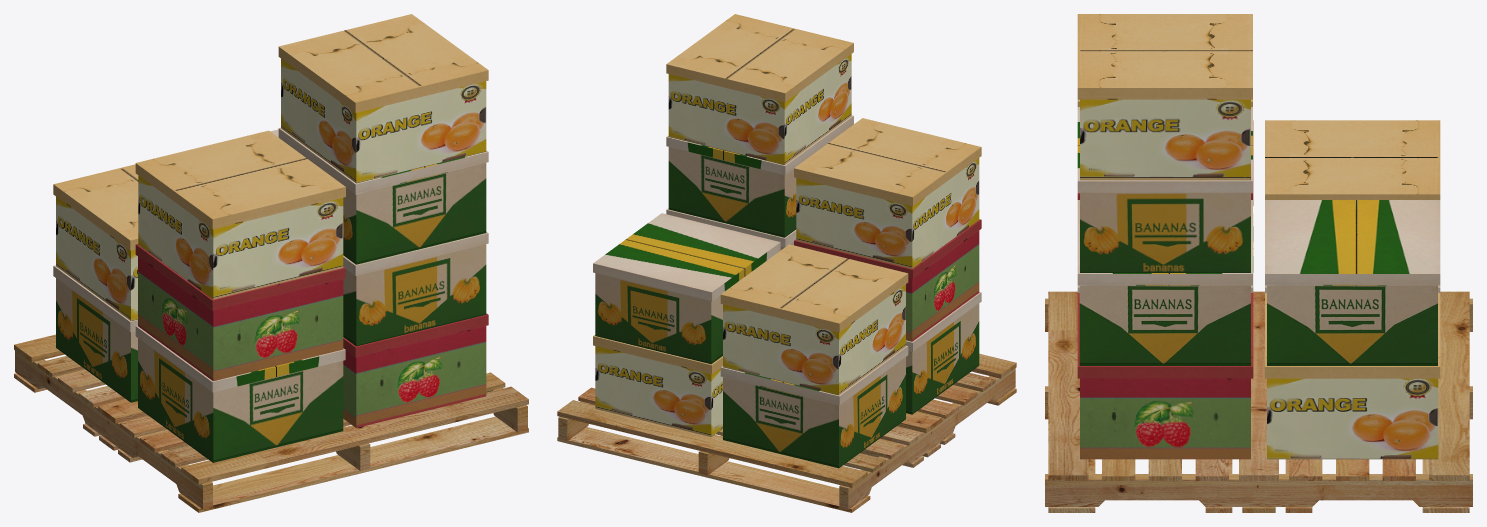
Rendered from Cardboard_boxGroup02c.glb.
3 renders of one model, left to right at view 1: azimuth 30°, elevation 25°; view 2: azimuth 150°, elevation 25°; view 3: azimuth 270°, elevation 25°, orthographic. The views are drawn at different scales.
Visible parts, largest first — view 1: Cardboard_boxGroup02c2, Cardboard_boxGroup02c1, Cardboard_boxG02c; view 2: Cardboard_boxGroup02c2, Cardboard_boxG02c, Cardboard_boxGroup02c1; view 3: Cardboard_boxGroup02c2, Cardboard_boxG02c, Cardboard_boxGroup02c1.
Part boxes in pixels (x1,y1,x2,y2): Cardboard_boxGroup02c2: (53,14,488,462); Cardboard_boxGroup02c1: (135,244,488,427); Cardboard_boxG02c: (14,334,528,512); Cardboard_boxGroup02c2: (593,14,981,468); Cardboard_boxG02c: (557,353,1016,512); Cardboard_boxGroup02c1: (794,219,981,341); Cardboard_boxGroup02c2: (1077,14,1440,459); Cardboard_boxG02c: (1045,291,1472,512); Cardboard_boxGroup02c1: (1077,120,1253,459).
Bounding box in the file's own units: 2.16 × 2.24 × 2.12.
3 materials, 3 textured.
